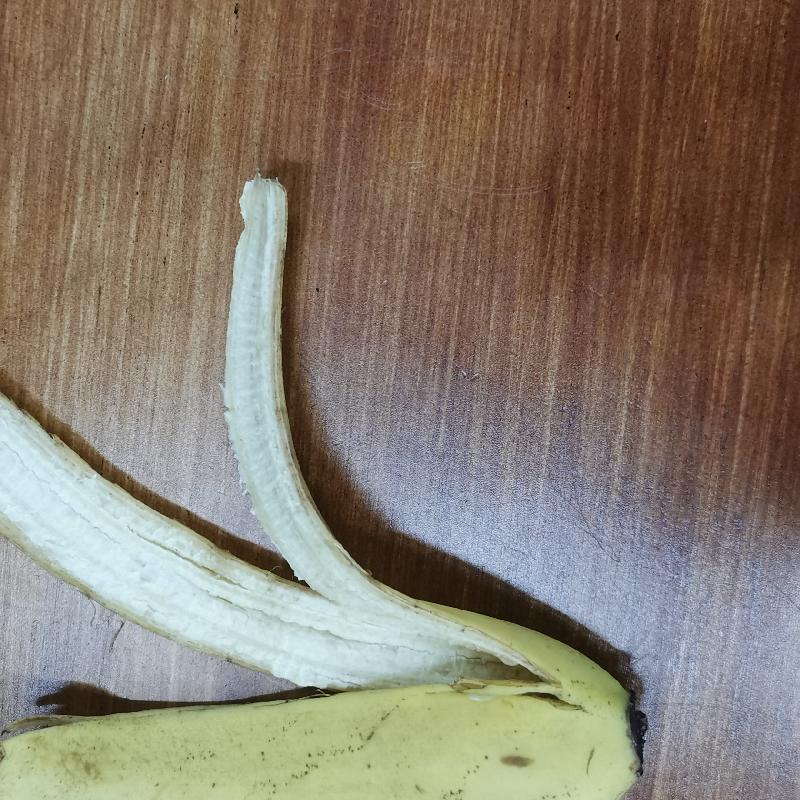bananas: (1, 168, 647, 800)
